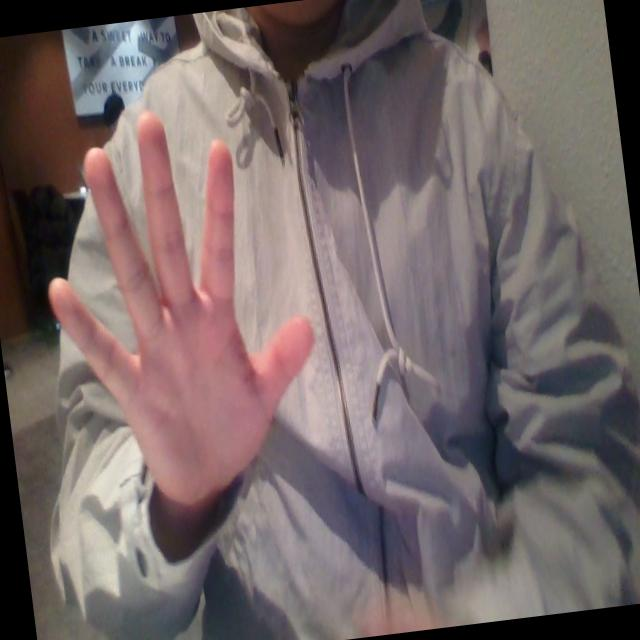hand: (34, 89, 340, 532)
